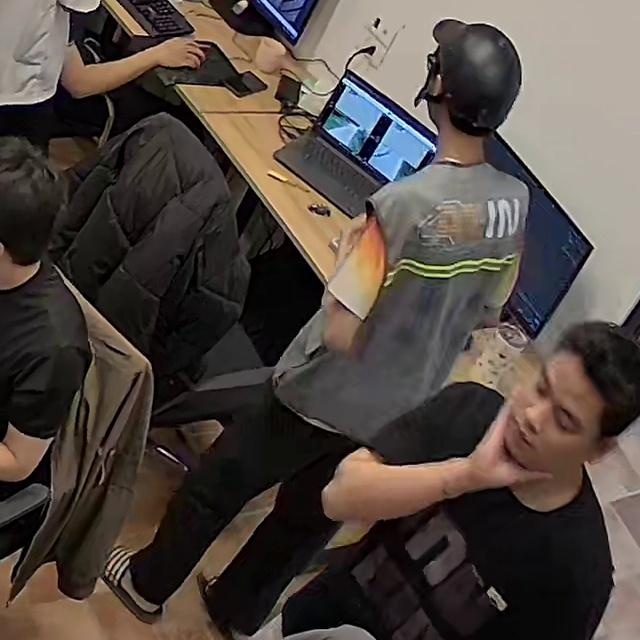helmet: (417, 19, 523, 134)
no_helmet: (527, 317, 639, 453), (0, 137, 66, 261)
none: (273, 393, 614, 637), (0, 257, 98, 474)
vest: (273, 158, 527, 452)
